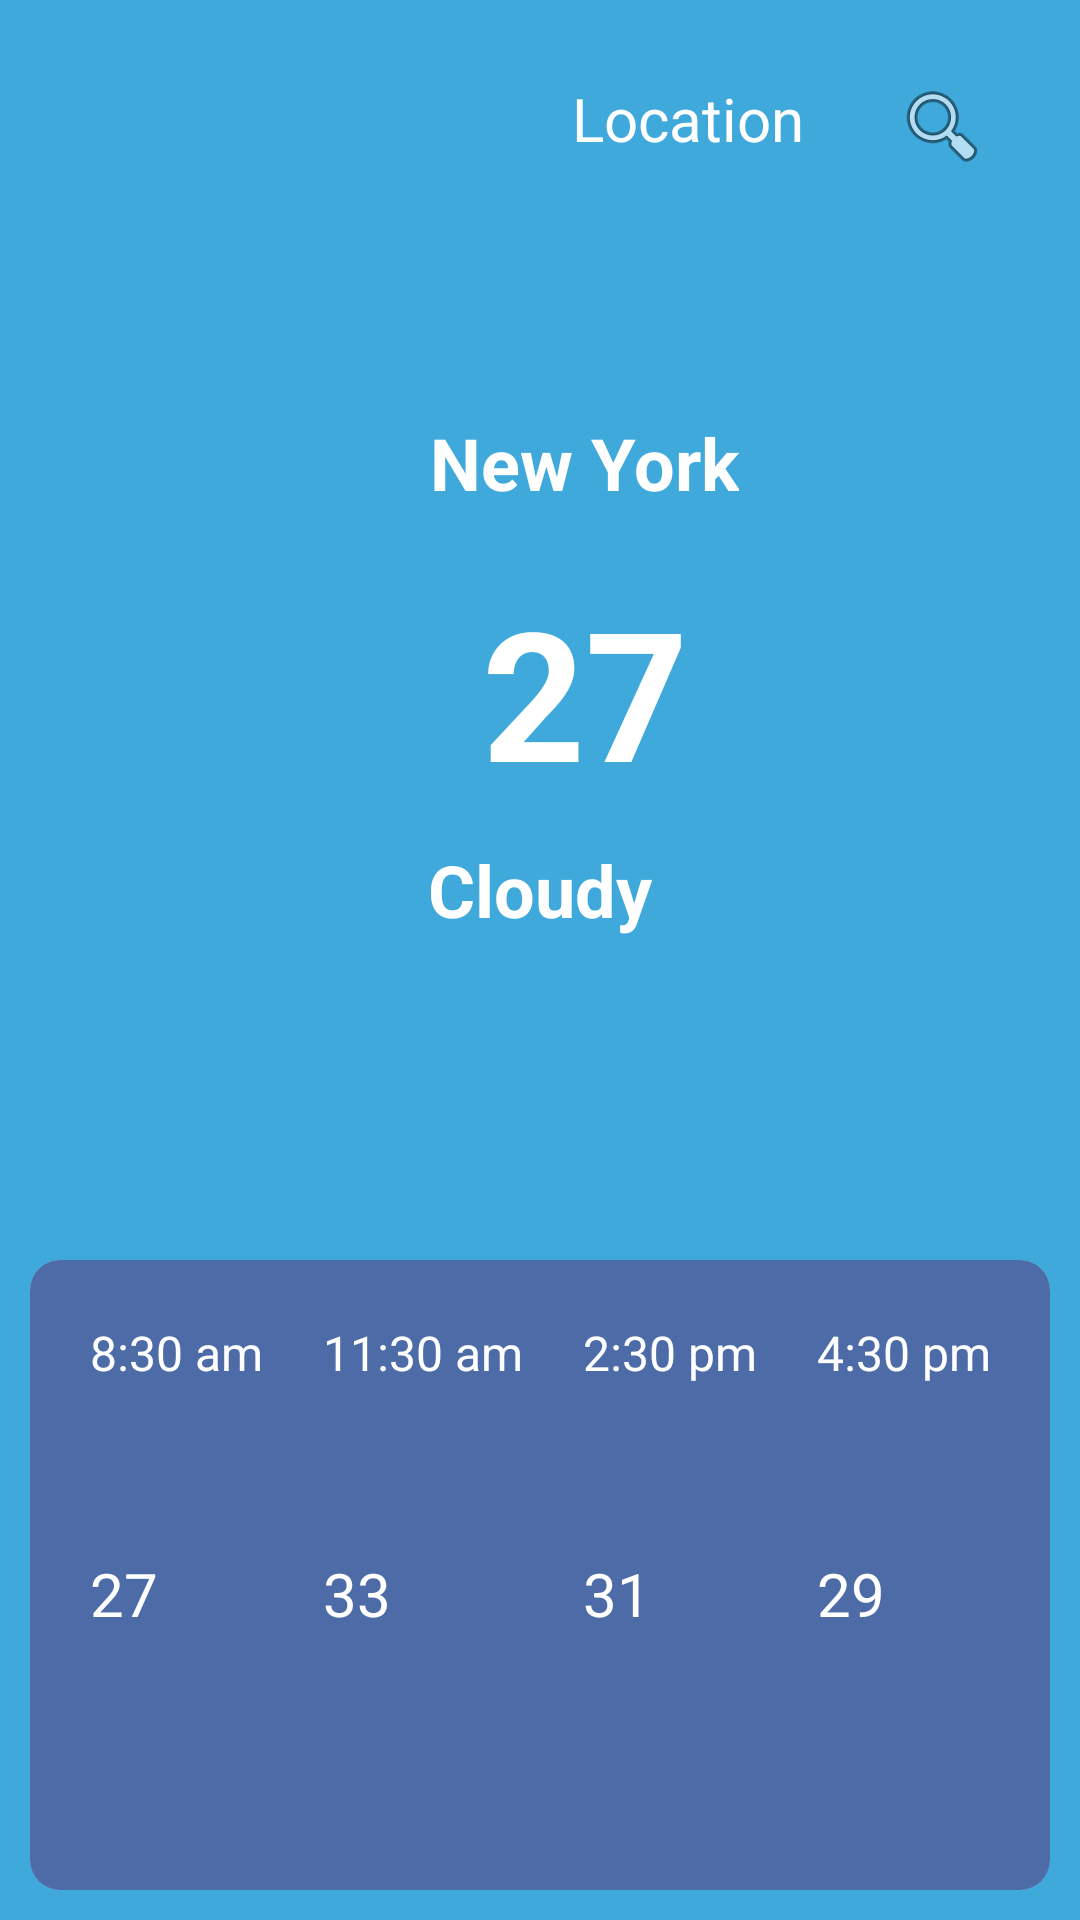

Screen size 1080px x 1920px. Icon name, then its box in pixels as [x1=x1, y1=y1, x2=x2, y2=y2]:
search: [x1=906, y1=91, x2=978, y2=162]
